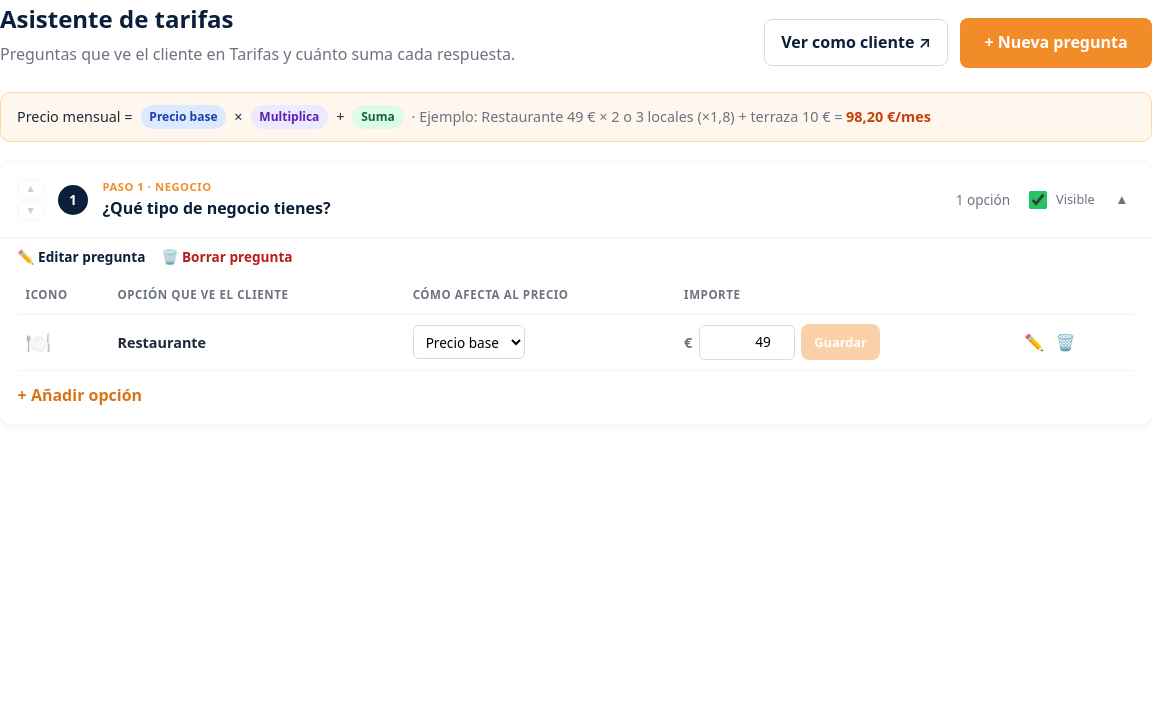
Scenario: admin screens › Tarifas: adds an option to a question
The image size is (1152, 720).
Step 1. Click the button "+ Añadir opción" → click(80, 396), box [18,383,142,408]
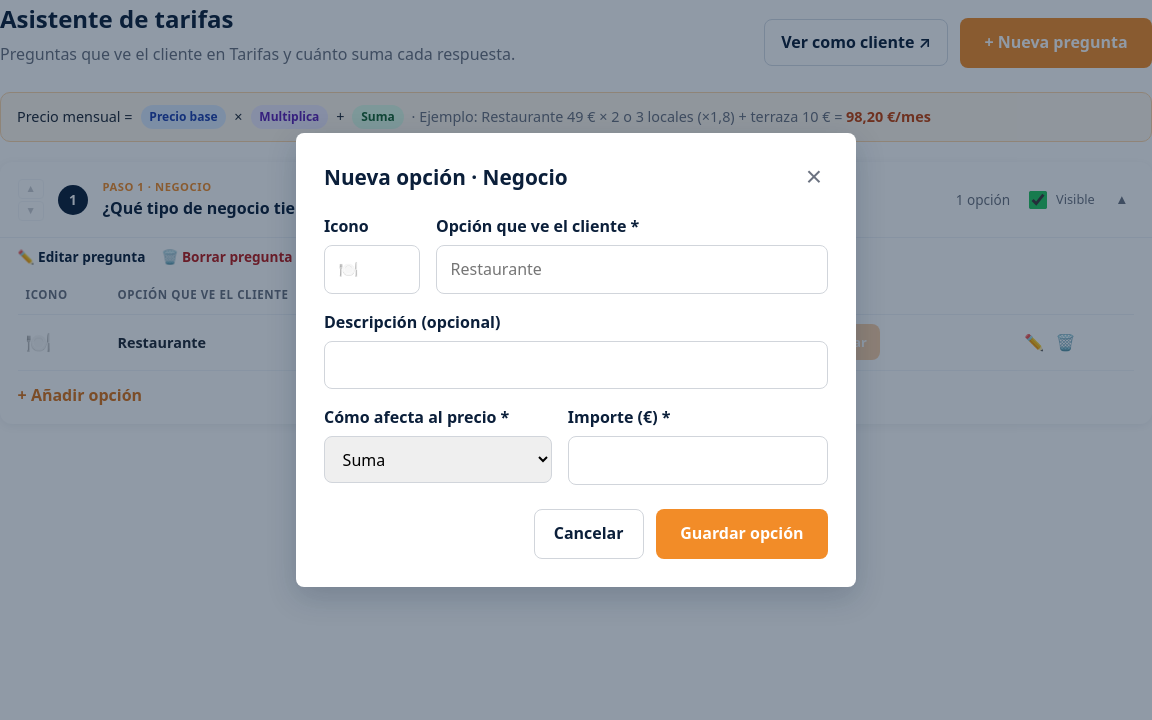
Step 2. Type "🛍️" into the field with id "option-icon" → (372, 270), box [324,245,420,294]
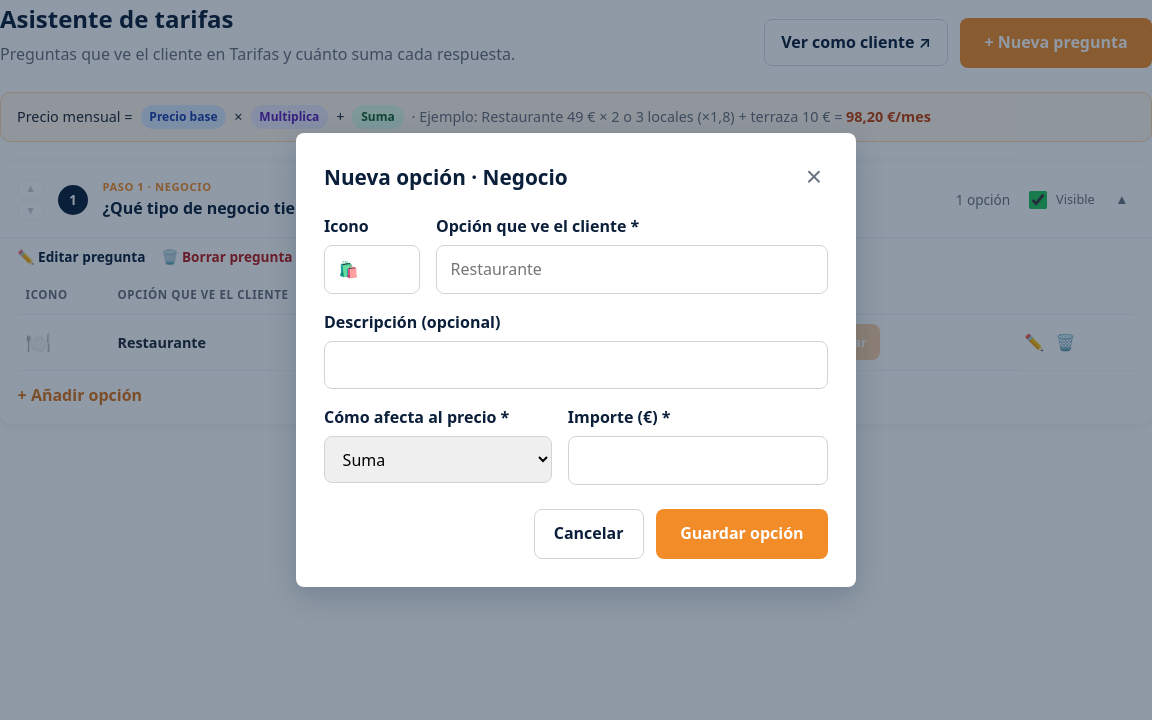
Step 3. Type "Tienda" into the field with id "option-label" → (632, 270), box [436,245,828,294]
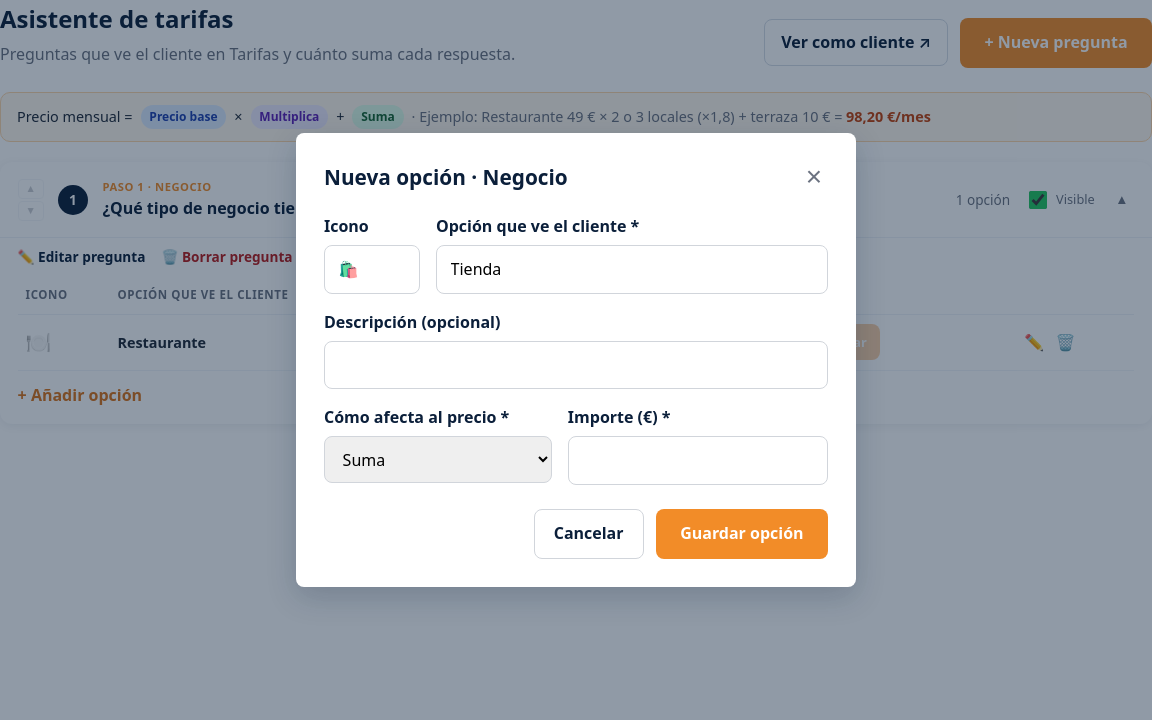
Step 4. Type "39" into the number field with id "option-amount" → (698, 461), box [568,436,828,485]
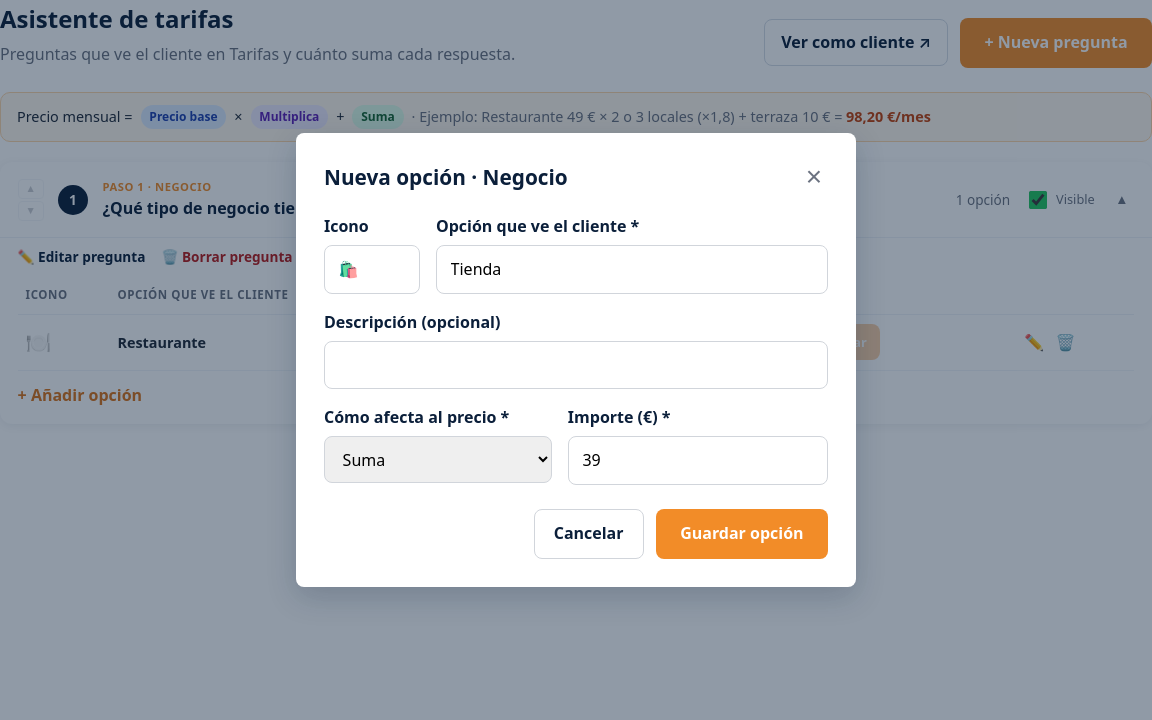
Step 5. Submit the form with class "admin-form", box [324,214,828,559]
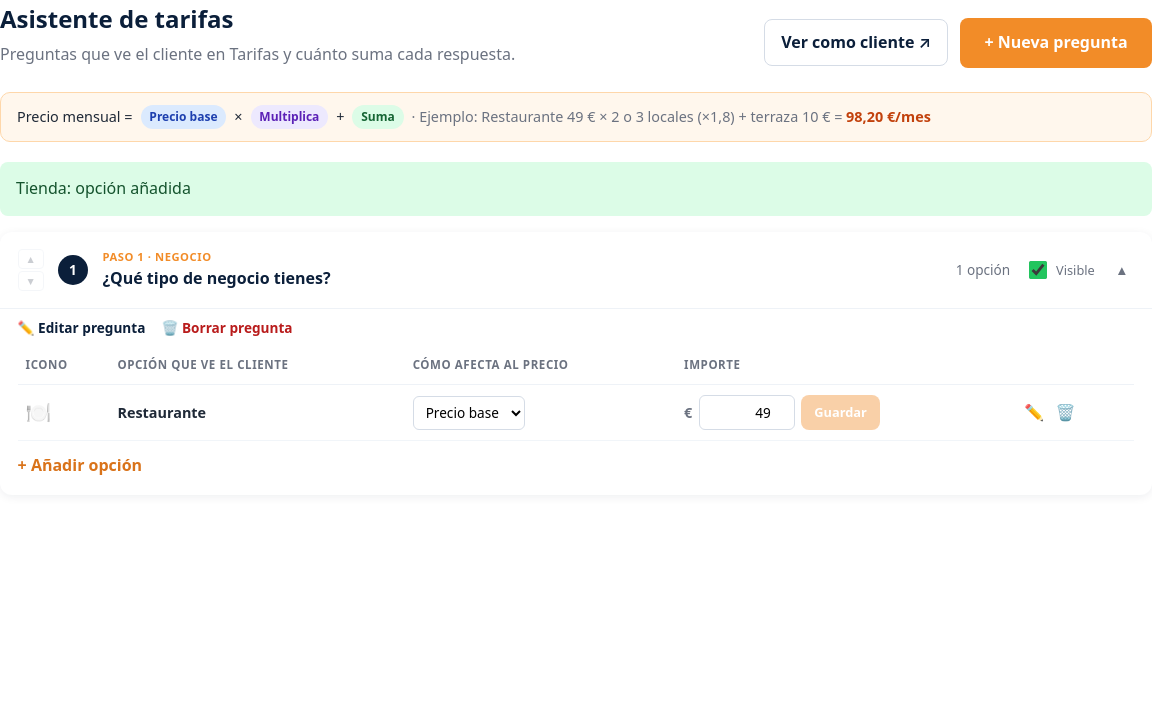
Expected: the message "Tienda: opción añadida" is shown, [0,162,1151,216]
